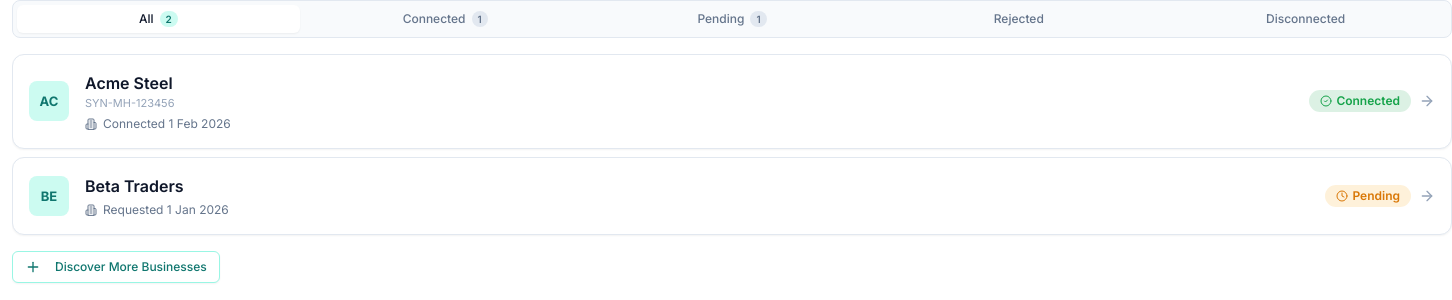
Test case: ConnectionList › filters connections when a status tab is selected
Click the tab "Pending1" at point(732, 19), box [591,5,873,33]
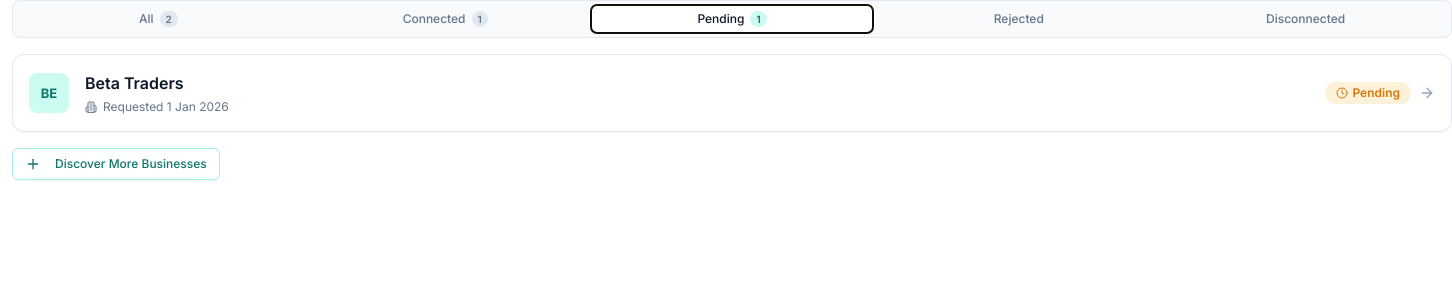
Expected: the text "Beta Traders" is shown, [85,73,184,93]
Expected: the link "Acme Steel" is gone
